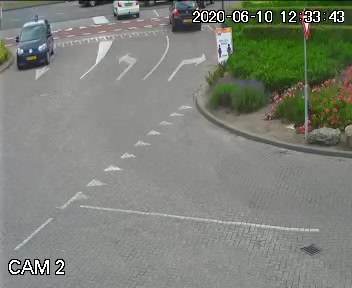car: (12, 19, 60, 71), (163, 1, 207, 30), (108, 0, 140, 20)
